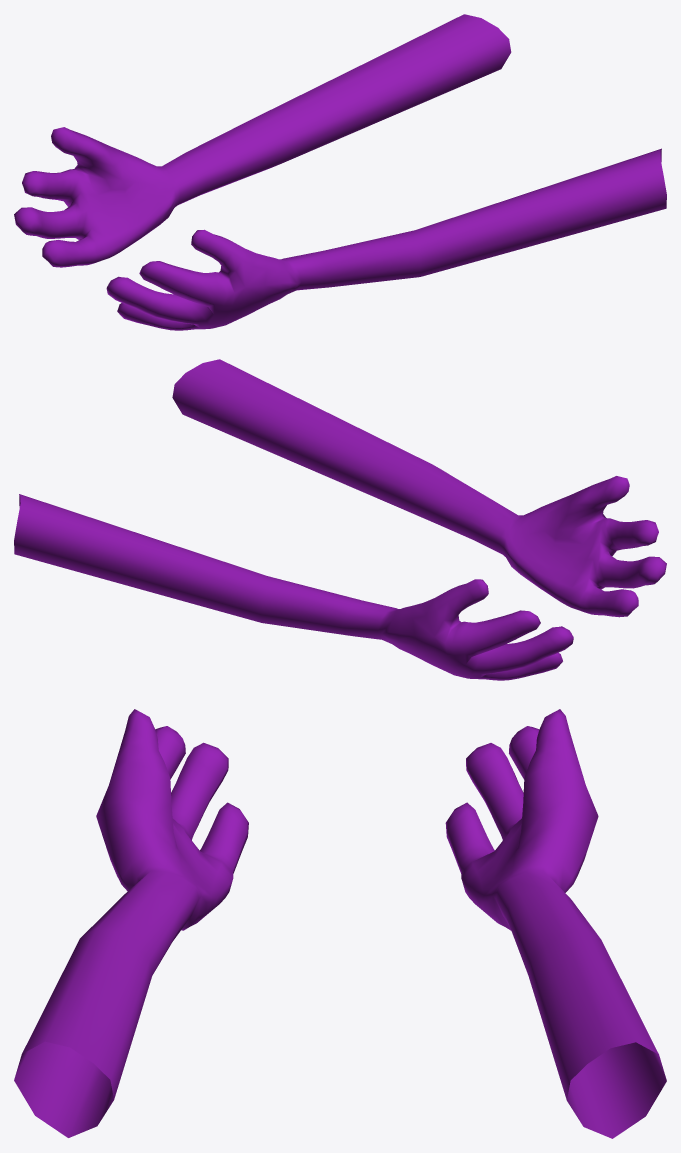
The model's file is MDL_Hands.obj.
The picture shows the model from 3 angles, top to bottom: view 1: azimuth 30°, elevation 25°; view 2: azimuth 150°, elevation 25°; view 3: azimuth 270°, elevation 25°; orthographic projection. The views are drawn at different scales.
Visible parts, largest first — view 1: MDL_Hands; view 2: MDL_Hands; view 3: MDL_Hands.
Part boxes in pixels (x1,y1,x2,y2): MDL_Hands: [14, 14, 666, 330]; MDL_Hands: [14, 359, 666, 680]; MDL_Hands: [14, 709, 666, 1138].
Bounding box in the file's own units: 1.47 × 0.3164 × 1.06.
